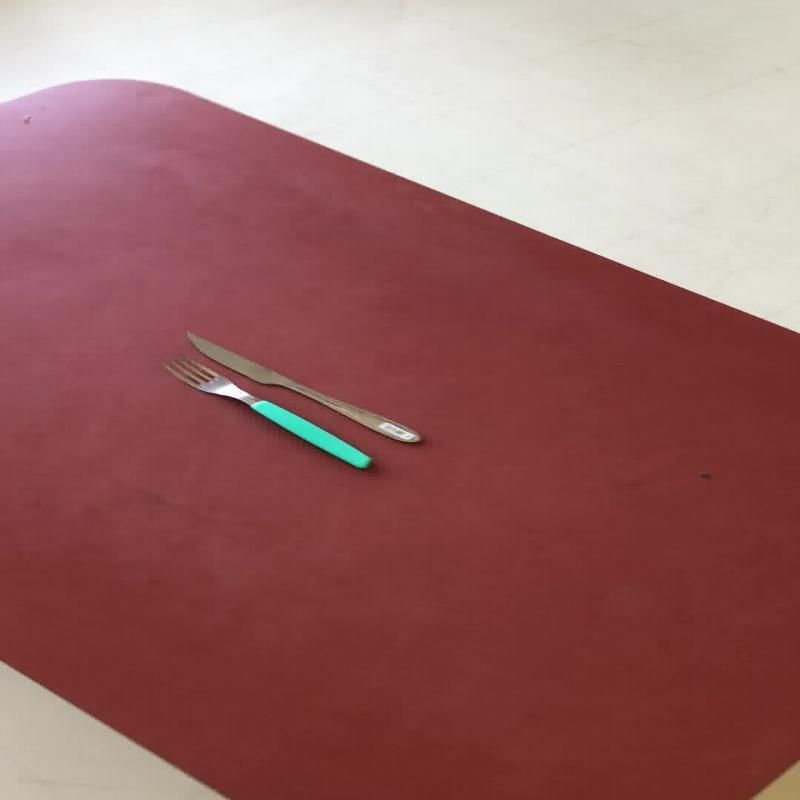fork: (160, 353, 372, 470)
knife: (183, 328, 420, 443)
